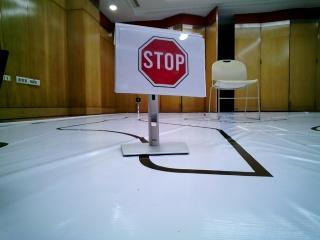stop: (129, 31, 201, 94)
